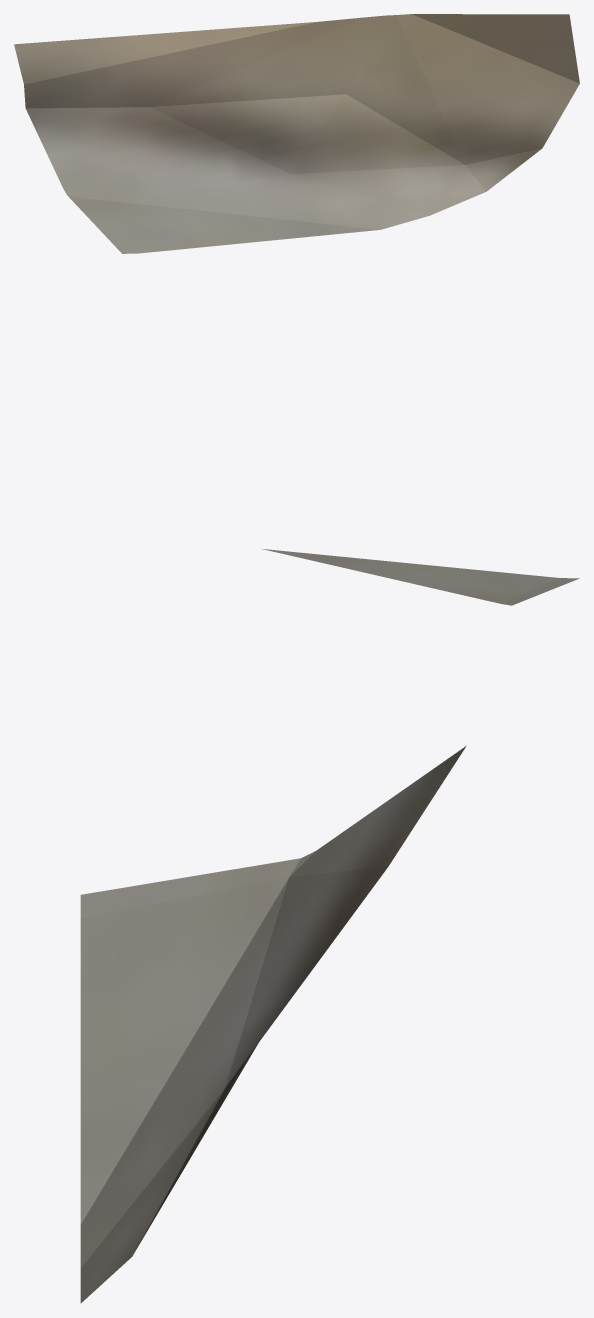
The picture shows the model from 3 angles, top to bottom: view 1: azimuth 30°, elevation 25°; view 2: azimuth 150°, elevation 25°; view 3: azimuth 270°, elevation 25°; orthographic projection. The views are drawn at different scales.
Size of the model in its own units: 0.1313 by 0.0465 by 0.0538.
Materials: 1 (1 with a texture image).
